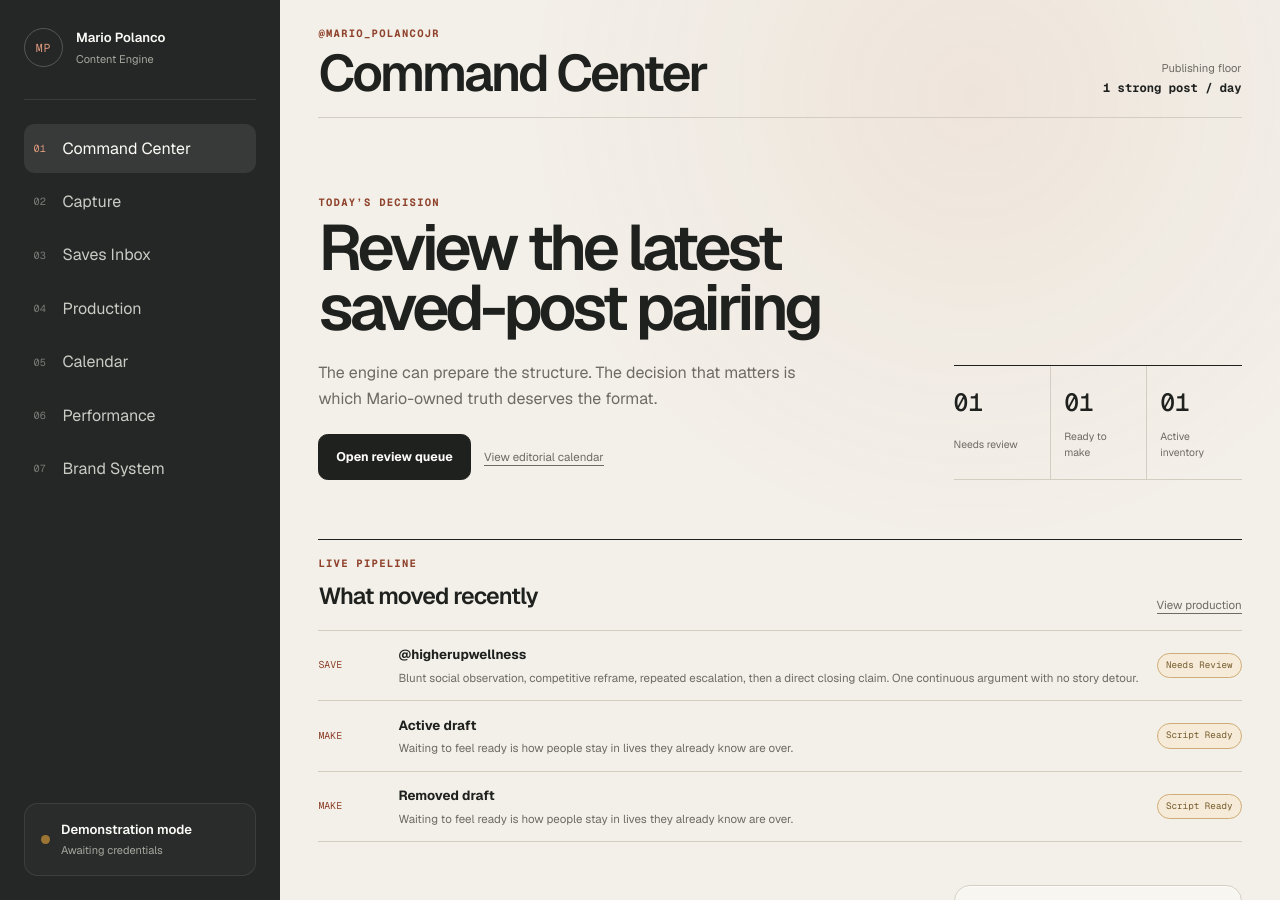
Test: Production package instructions › keeps archived and posted packages out of the active count
Step 1. Click the button "04 Production" → (140, 309), box [24,284,256,333]
(page scrolled)
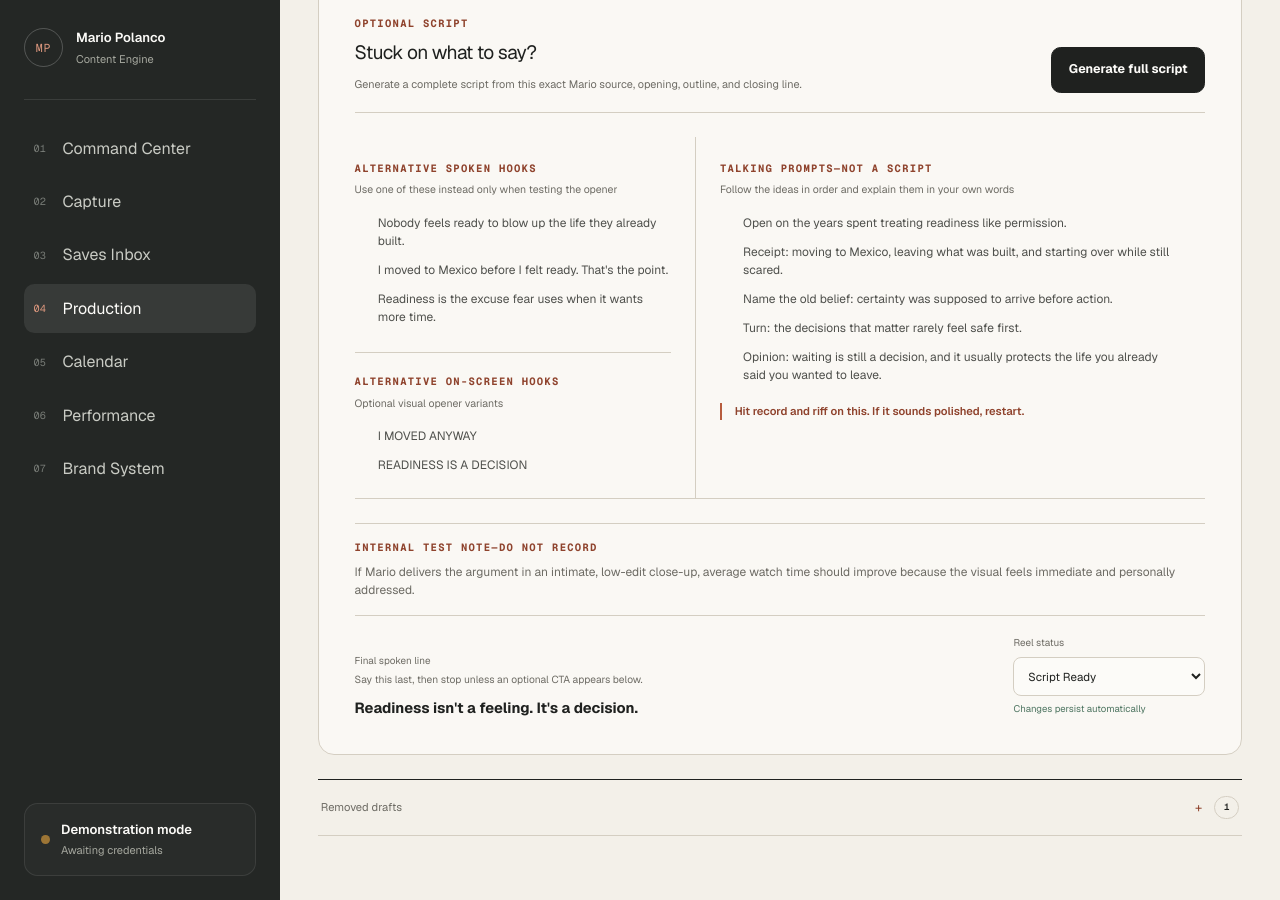
Expected: the text "Removed drafts" is shown, [321,800,402,814]
